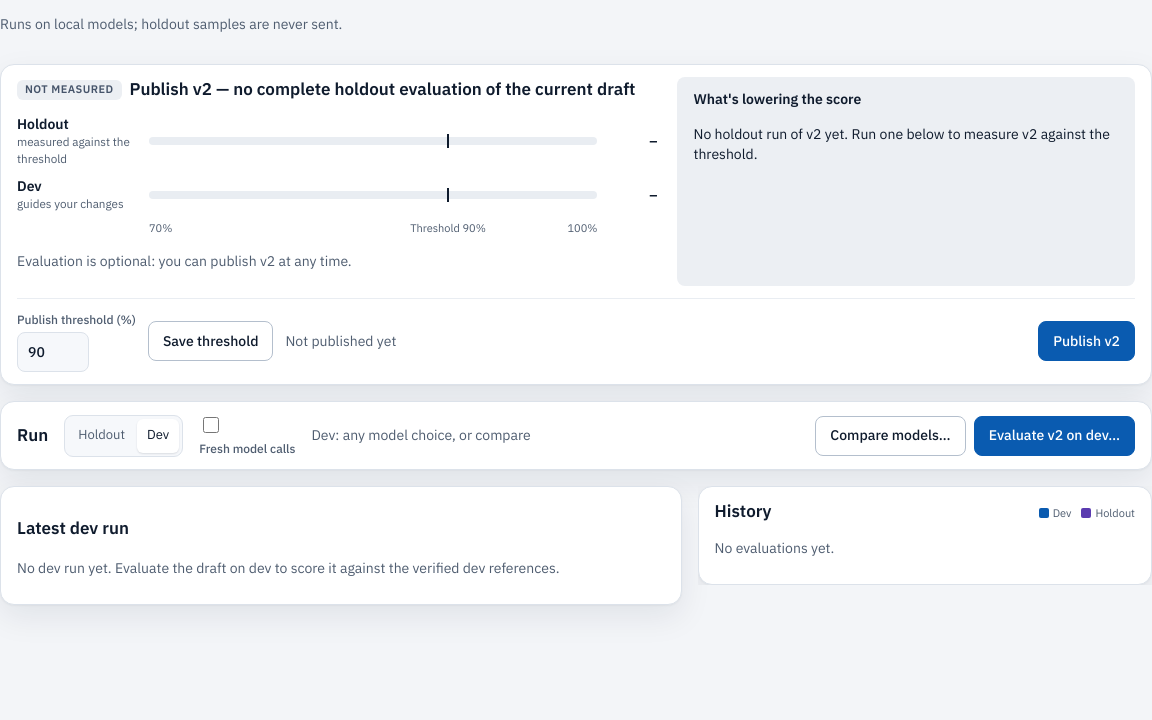
Test: EvaluateTab › keeps a refused evaluation in the dialog, with the reason
Click the button "Evaluate v2 on dev…" at (1054, 436), box left=974, top=416, right=1135, bottom=456
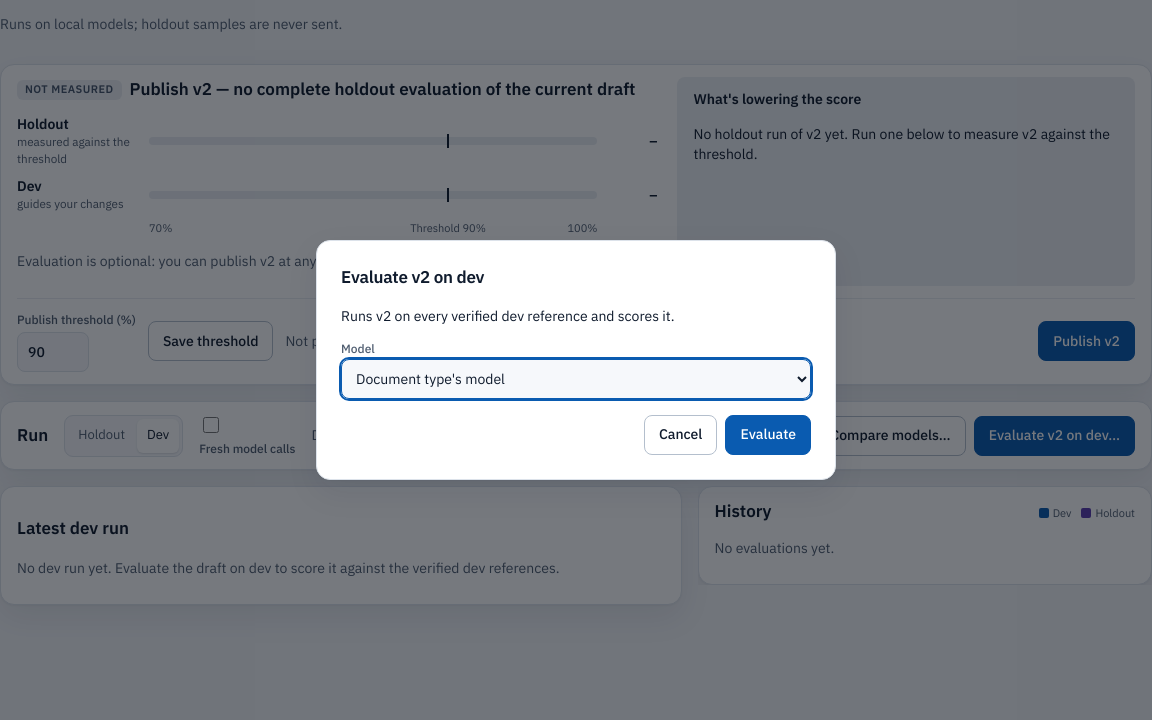
Click the button "Evaluate" at (768, 435), box left=725, top=415, right=811, bottom=455
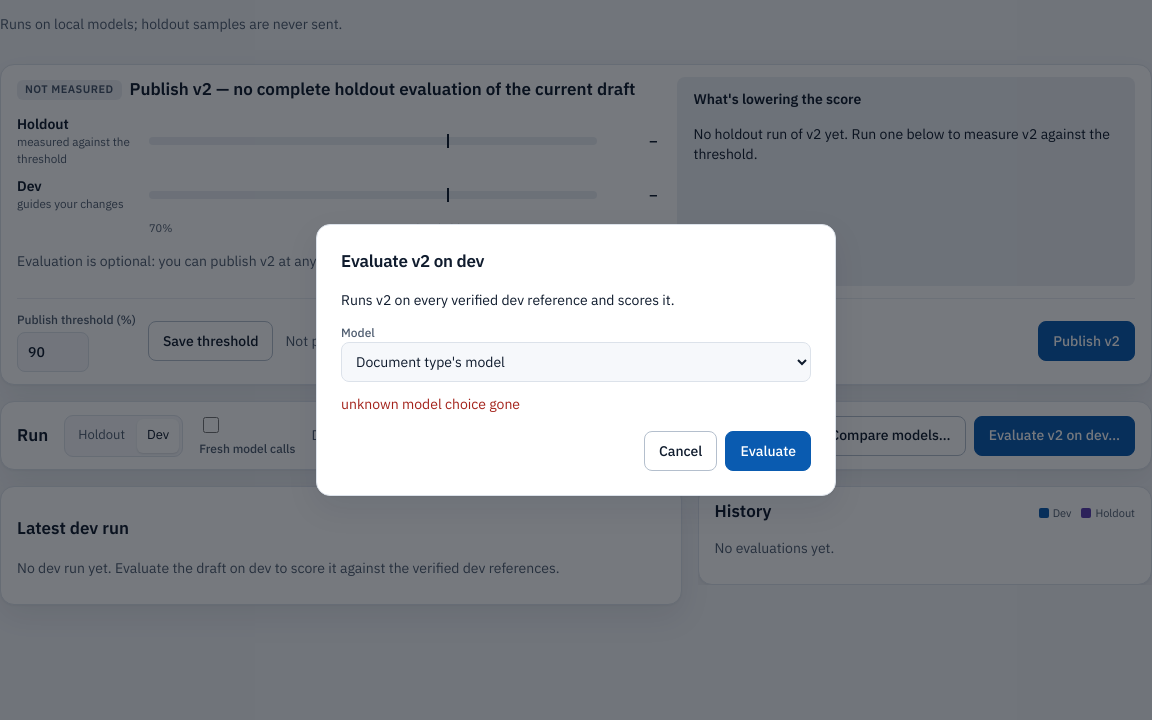
Now the message reads "unknown model choice gone", box left=341, top=396, right=520, bottom=414
